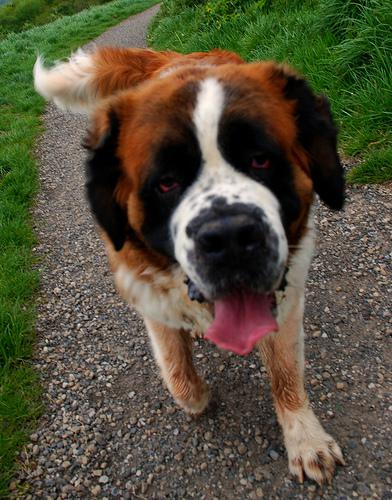dog-saint_bernard: (83, 75, 344, 352)
